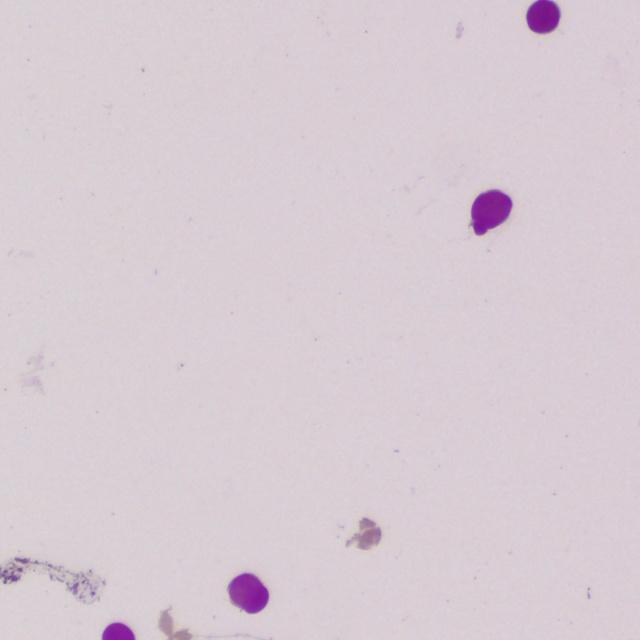viable: (472, 190, 512, 234), (228, 574, 268, 613), (527, 0, 559, 32), (102, 622, 134, 639)
